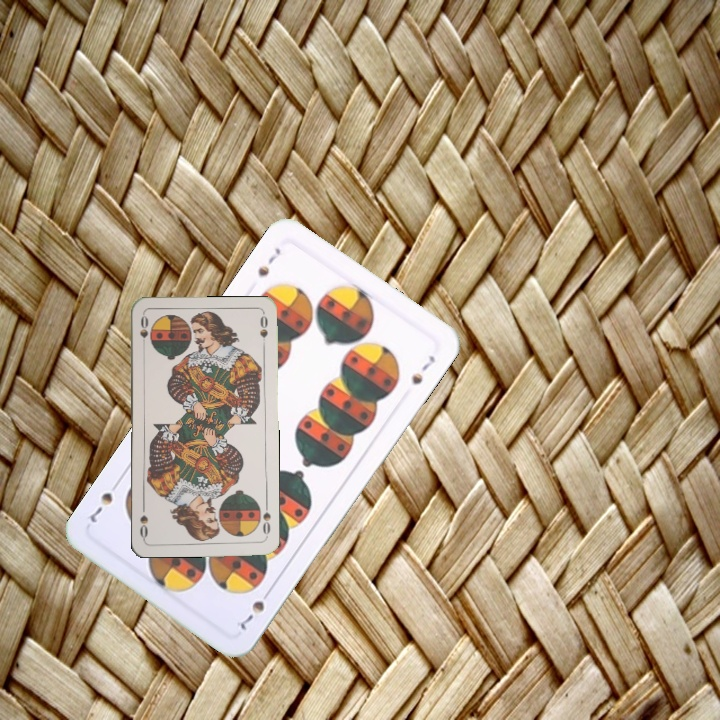S7: (235, 584, 275, 632), (253, 243, 284, 280)
SO: (136, 312, 151, 352), (258, 500, 273, 540)
